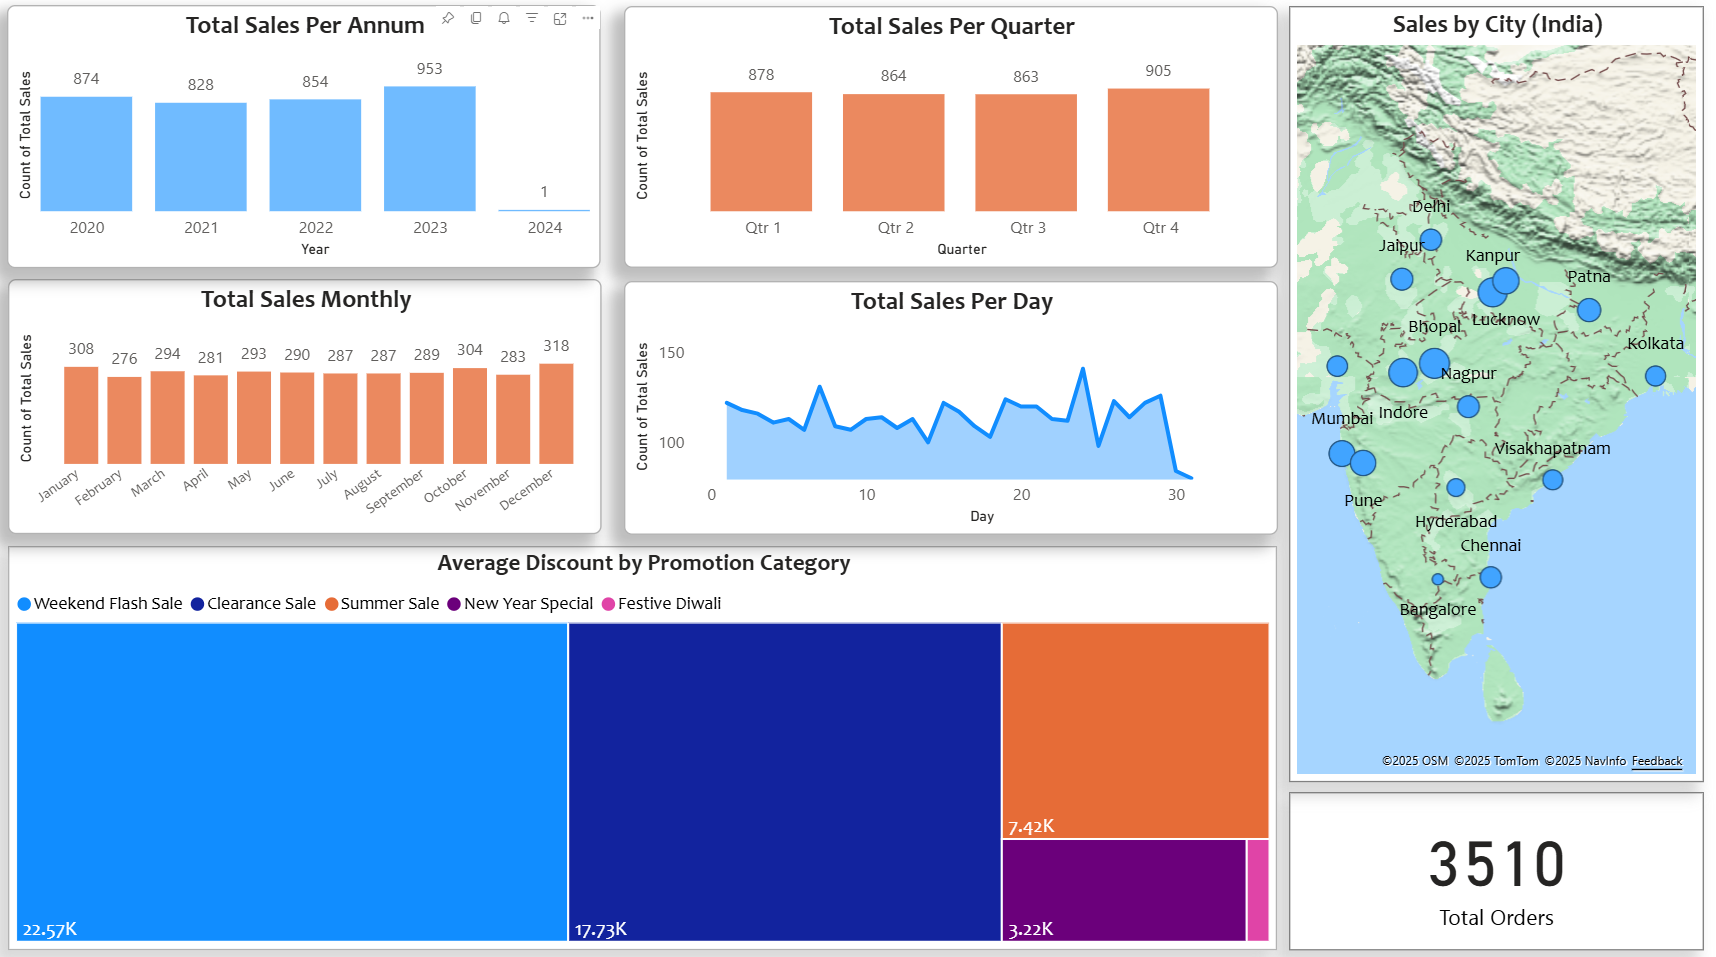

The page's visual inventory and layout, read from the dashboard file:
{"tool":"powerbi","page":{"name":"ElectroHub Business Overview","canvas":[1280,720],"ordinal":0},"visuals":[{"type":"card","fields":{"Values":["Count(Fact Table.Order ID)"]},"box":[961.9,593.3,309.3,117.7],"z":0},{"type":"azureMap","title":"Sales by City (India)","fields":{"Category":["Dim Customers.City"],"Size":["Sum(Fact Table.Net Sales)"]},"box":[962.2,8,308.8,577.5],"z":1000},{"type":"treemap","title":"Average Discount by Promotion Category","fields":{"Group":["Dim Promotion.Promotion Name"],"Values":["Avg(Fact Table.Discount Value)"]},"box":[8.2,410.3,945.4,301],"z":2000},{"type":"columnChart","title":"Total Sales Monthly","fields":{"Y":["CountNonNull(Fact Table.Total Sales )"],"Category":["Date Table 1.Date.Variation.Date Hierarchy.Month"]},"box":[8.2,211.3,442.3,189.7],"z":3000},{"type":"columnChart","title":"Total Sales Per Annum","fields":{"Y":["CountNonNull(Fact Table.Total Sales )"],"Category":["Date Table 1.Date.Variation.Date Hierarchy.Year"]},"box":[7.8,7.8,442.2,195.6],"z":4000},{"type":"columnChart","title":"Total Sales Per Quarter","fields":{"Y":["CountNonNull(Fact Table.Total Sales )"],"Category":["Date Table 1.Date.Variation.Date Hierarchy.Quarter"]},"box":[466.6,8,486.6,194.8],"z":5000},{"type":"areaChart","title":"Total Sales Per Day","fields":{"Y":["CountNonNull(Fact Table.Total Sales )"],"Category":["Date Table 1.Date.Variation.Date Hierarchy.Day"]},"box":[466.6,212.8,486.6,188.9],"z":7000}]}

Visuals, with their boxes in screenshot pixels (x1, y1, x2, y2), scaled from the page's 1280x720 canvas onto the 1716x957 screenshot:
card - Count(Fact Table.Order ID): locate(1290, 789, 1704, 945)
"Sales by City (India)" azureMap: locate(1290, 11, 1704, 778)
"Average Discount by Promotion Category" treemap: locate(11, 545, 1278, 945)
"Total Sales Monthly" columnChart: locate(11, 281, 604, 533)
"Total Sales Per Annum" columnChart: locate(10, 10, 603, 270)
"Total Sales Per Quarter" columnChart: locate(626, 11, 1278, 270)
"Total Sales Per Day" areaChart: locate(626, 283, 1278, 534)
